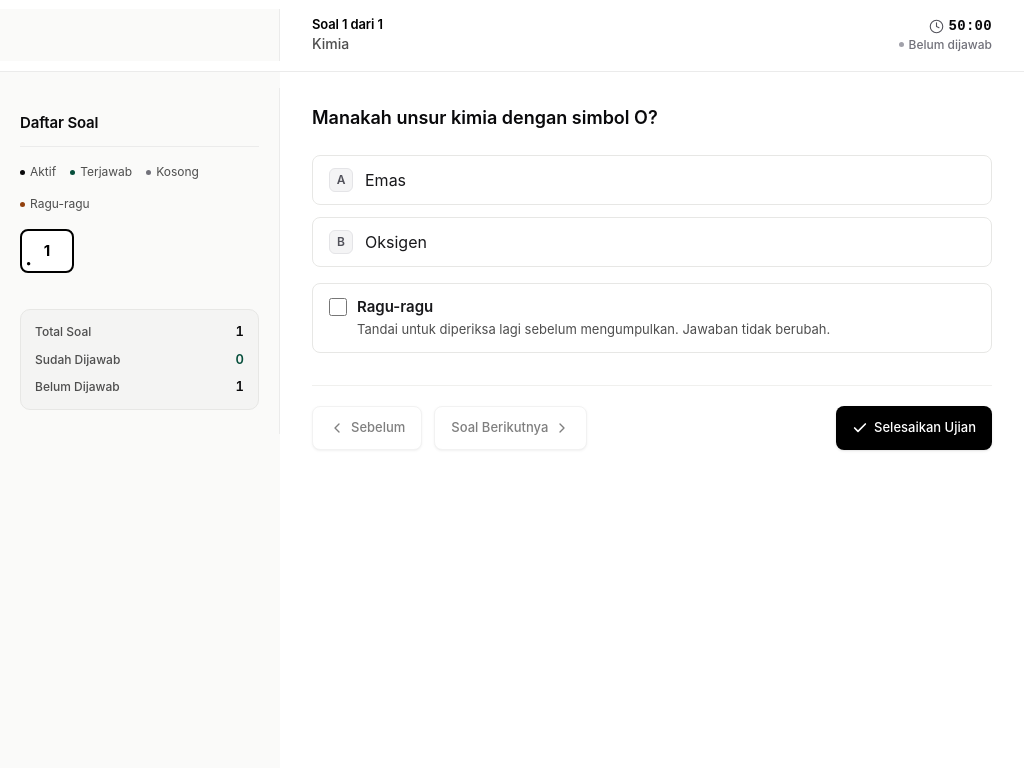
it: StudentExamWorkstation resilience › shows a failed submission inline, lets the student retry, then forgets the device copy
Check: the text "Manakah unsur kimia dengan simbol O?" is shown, box [312,104,658,130]
Click the radio button labelled "B Oksigen" at coordinates (396, 242), box [312,216,992,266]
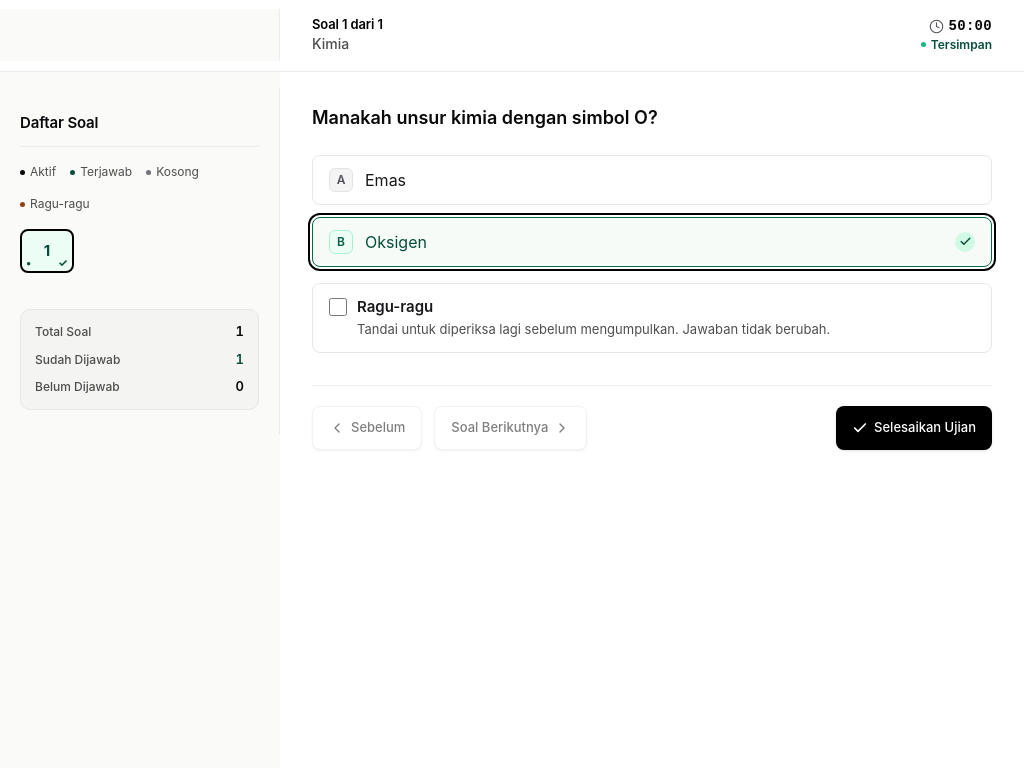
Check: the text "Tersimpan" is shown, box [931,37,992,52]
Click the button "Selesaikan Ujian" at coordinates (914, 428), box [836,406,992,450]
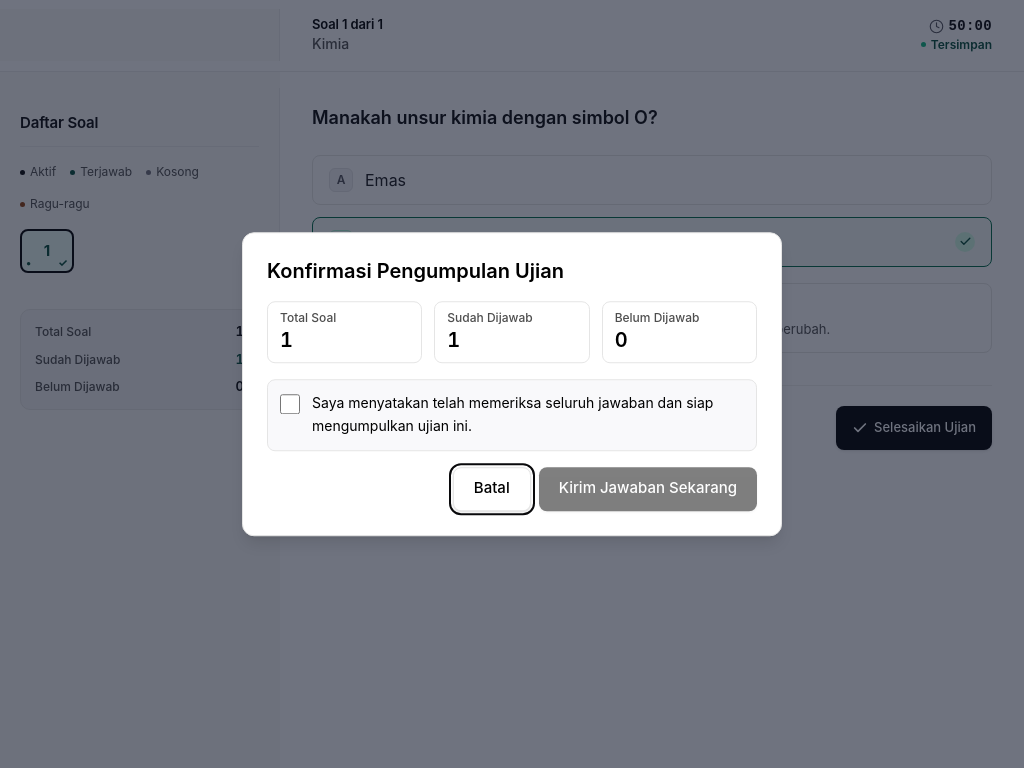
Click the checkbox at coordinates (290, 404), box [280,394,300,414]
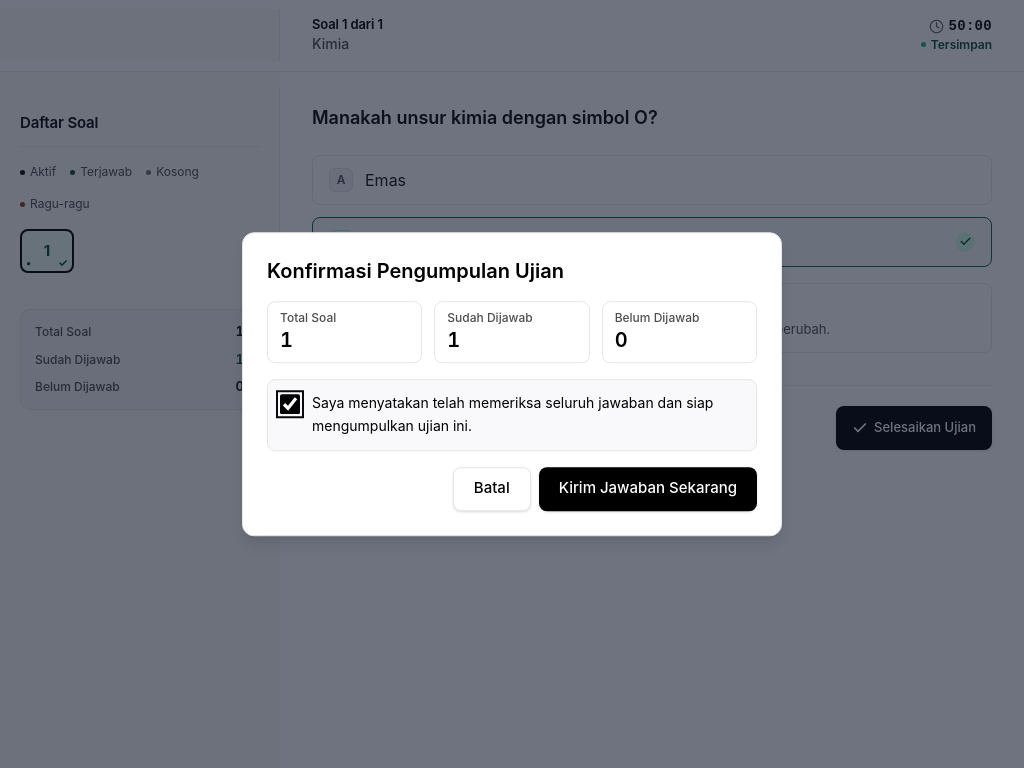
Click the button "Kirim Jawaban Sekarang" at coordinates (648, 489), box [539,467,757,511]
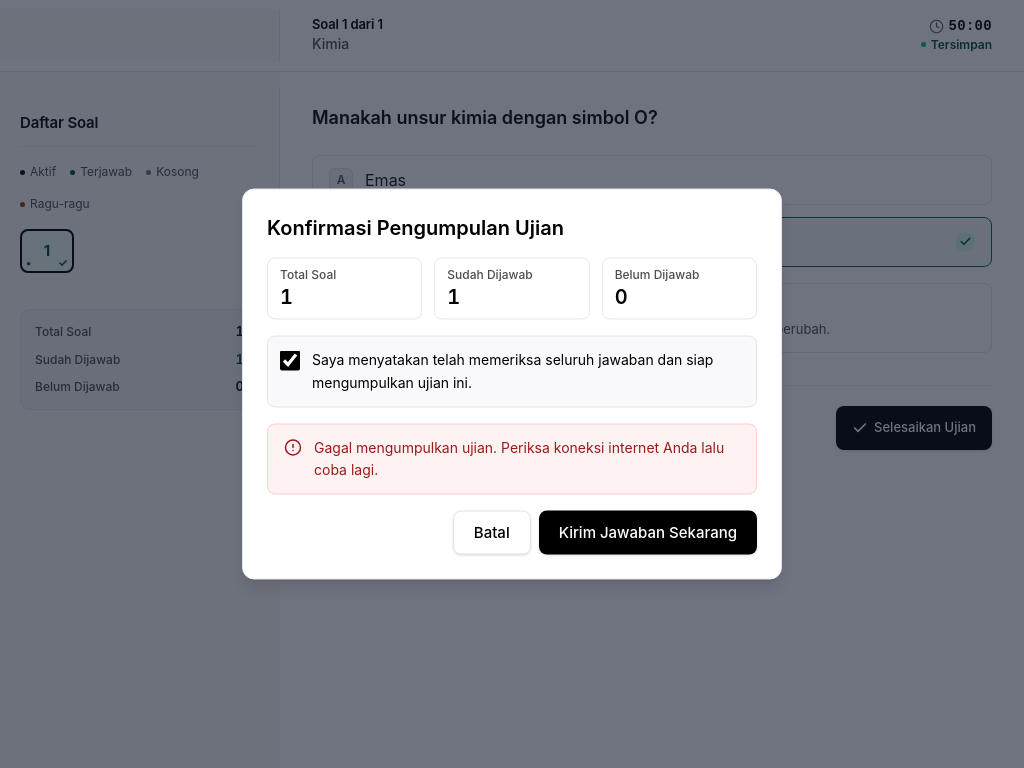
Check: the text "Gagal mengumpulkan ujian. Periksa koneksi internet Anda lalu coba lagi." is shown, box [314,436,740,482]
Click the button "Kirim Jawaban Sekarang" at coordinates (648, 532), box [539,510,757,554]
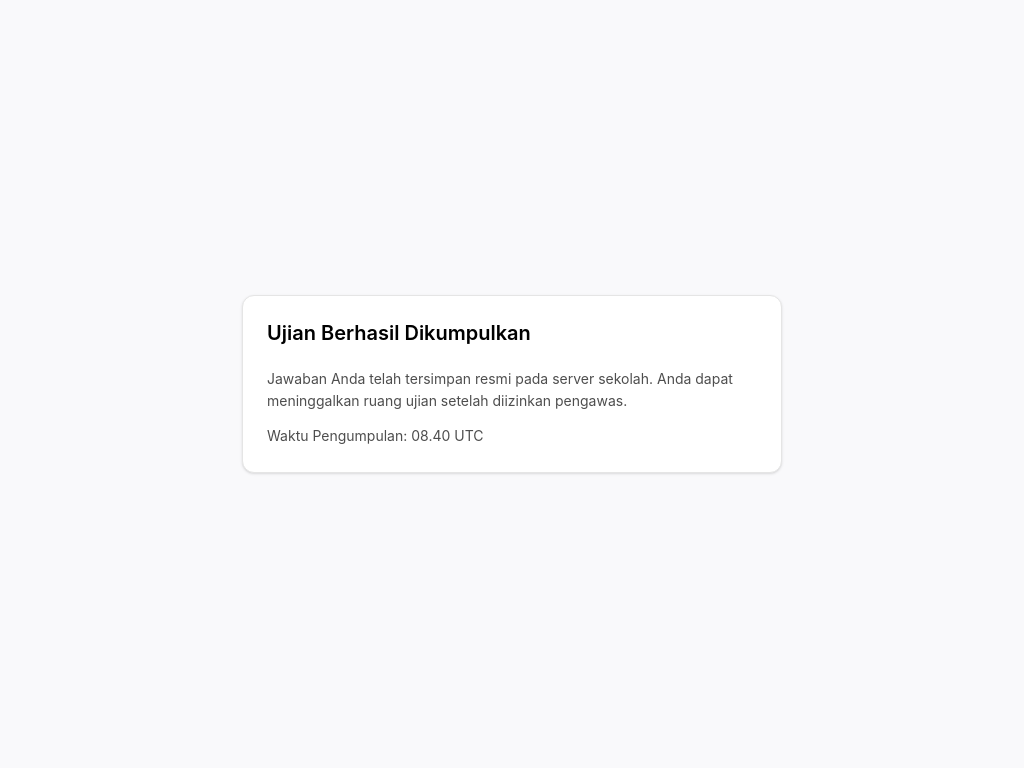
Check: the heading "Ujian Berhasil Dikumpulkan" is shown, box [267,321,531,345]
